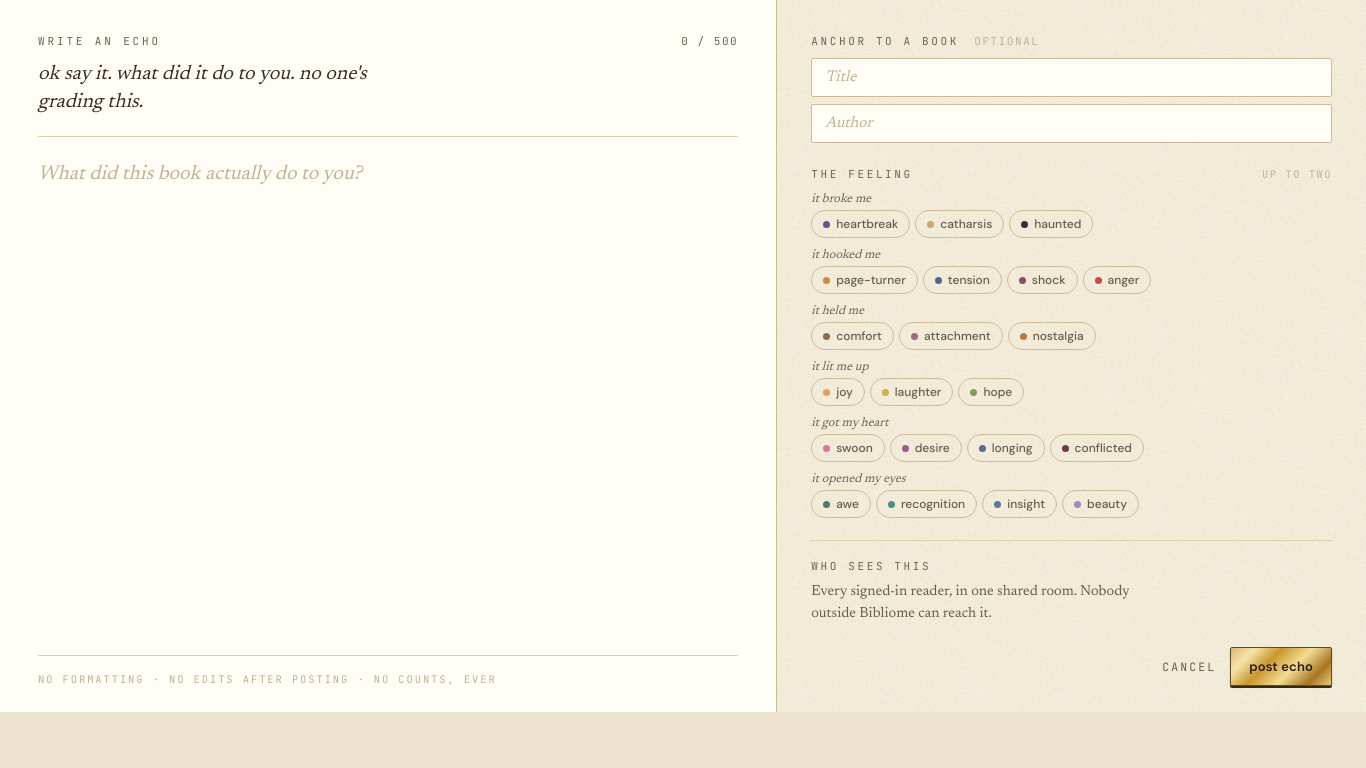
Test: EchoComposer [F3.2 / B3.2] › shows a held-for-review state, not a rejection
Step 1. Type "x" into the text box named "your reflection" → (388,398), box left=38, top=157, right=738, bottom=638
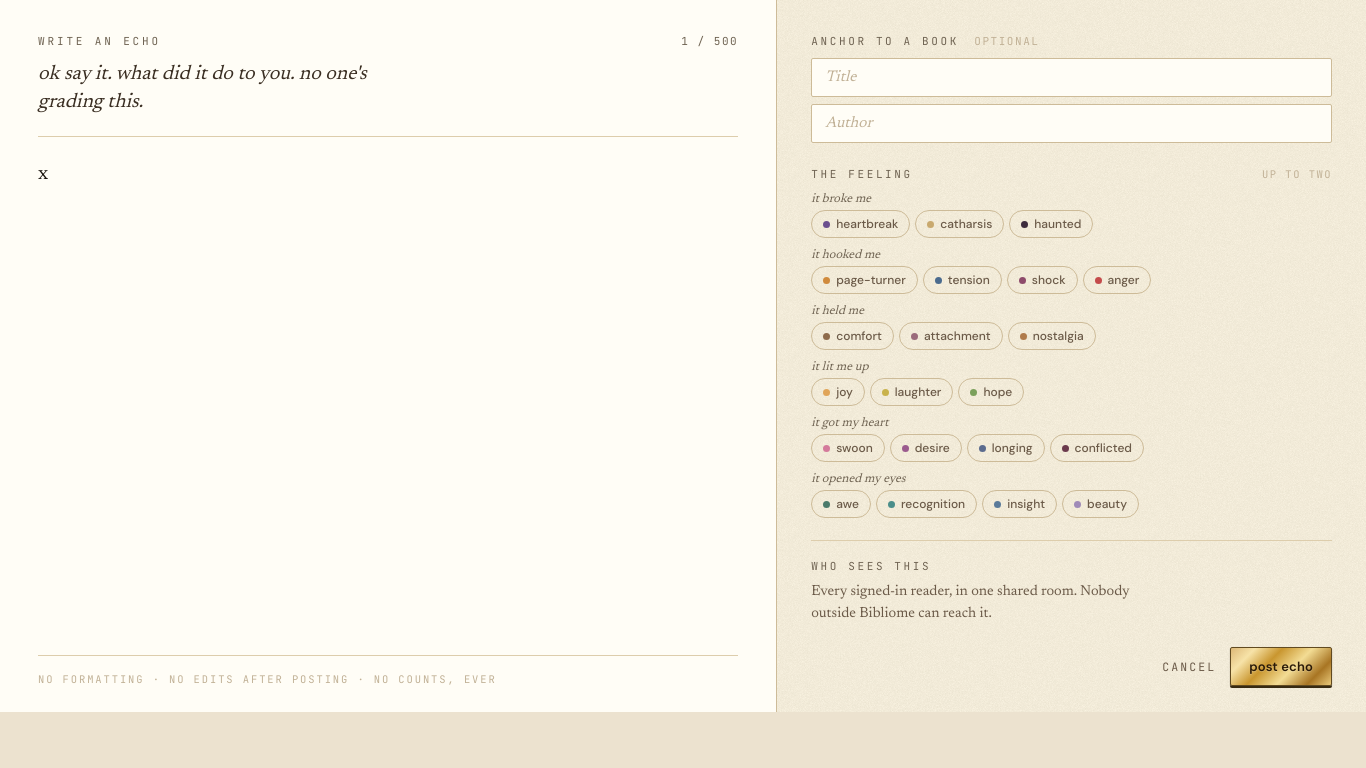
Step 2. Click the button "post echo" → (1281,666), box left=1230, top=646, right=1332, bottom=686
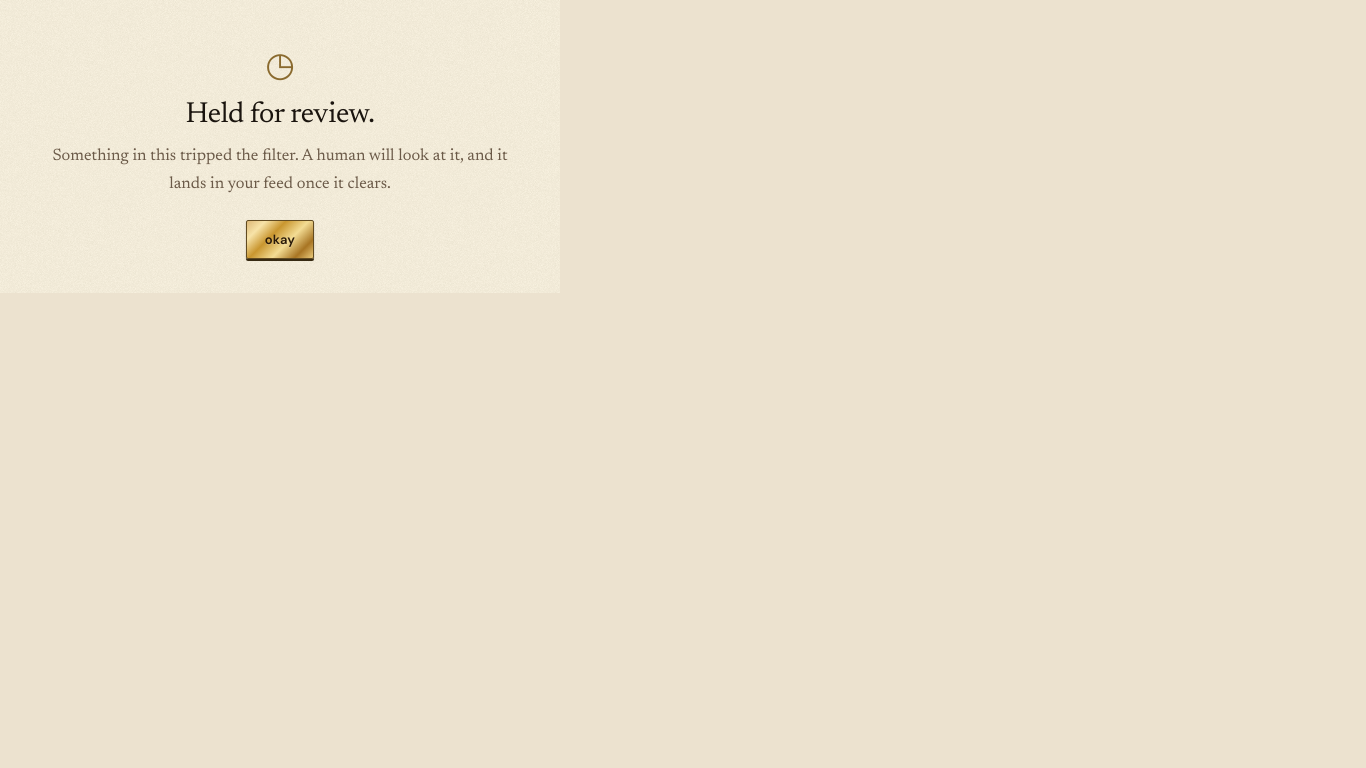
expect the heading "Held for review." is shown: met, box left=186, top=101, right=374, bottom=130
expect the text "lands in your feed once it clears" is shown: met, box left=52, top=148, right=508, bottom=192
